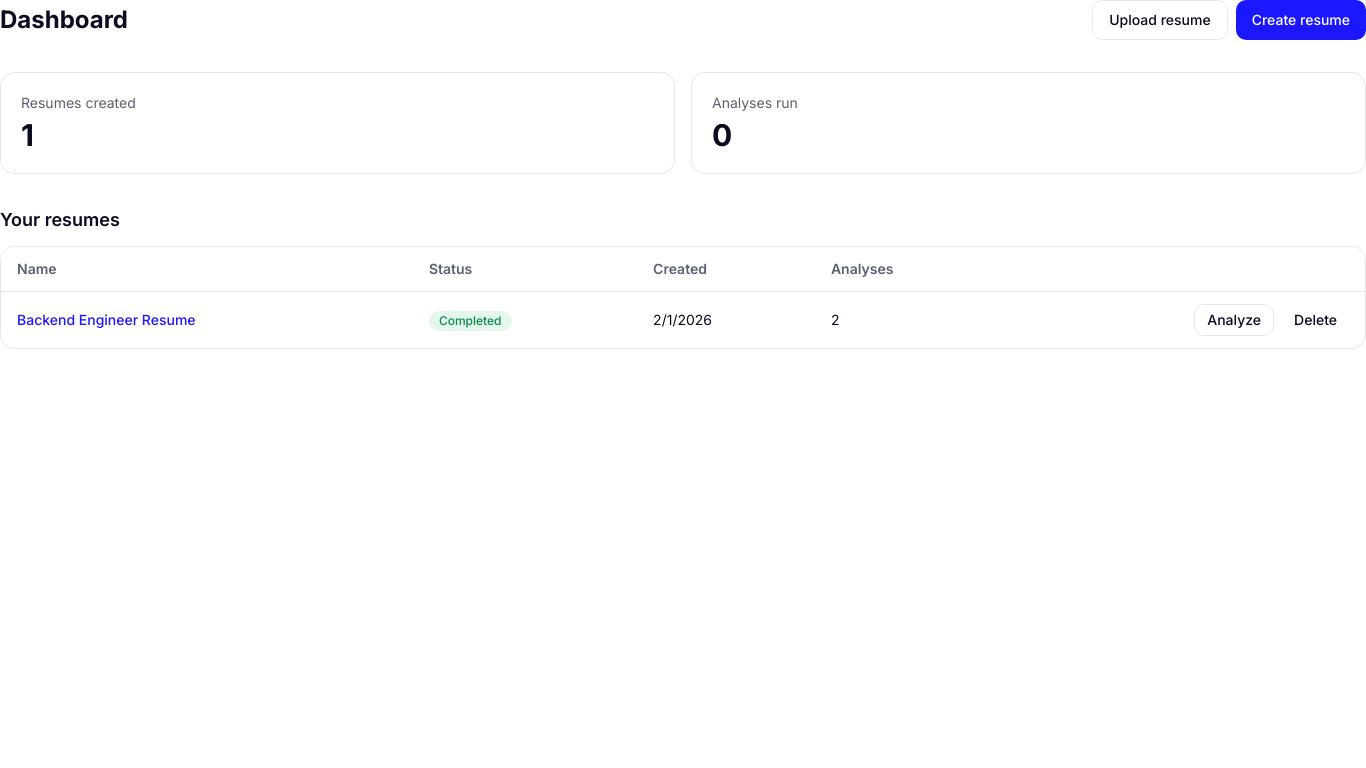
Scenario: DashboardPage › confirms then optimistically removes a deleted resume
expect the link "Backend Engineer Resume" is shown: met, box [17,311,196,328]
Click the button "Delete". click: (1316, 320)
box: [1282,304,1349,336]
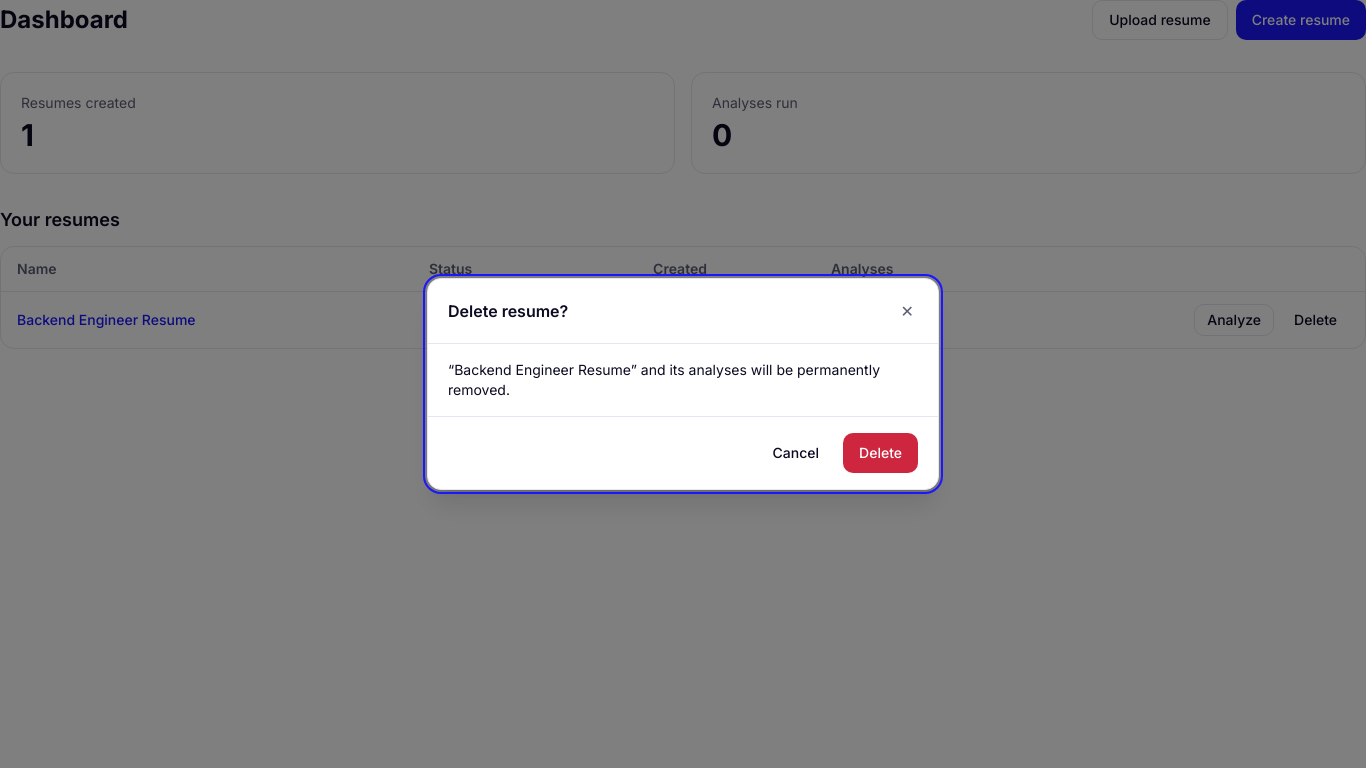
Click the button "Delete". click: (881, 453)
box: [843,433,918,473]
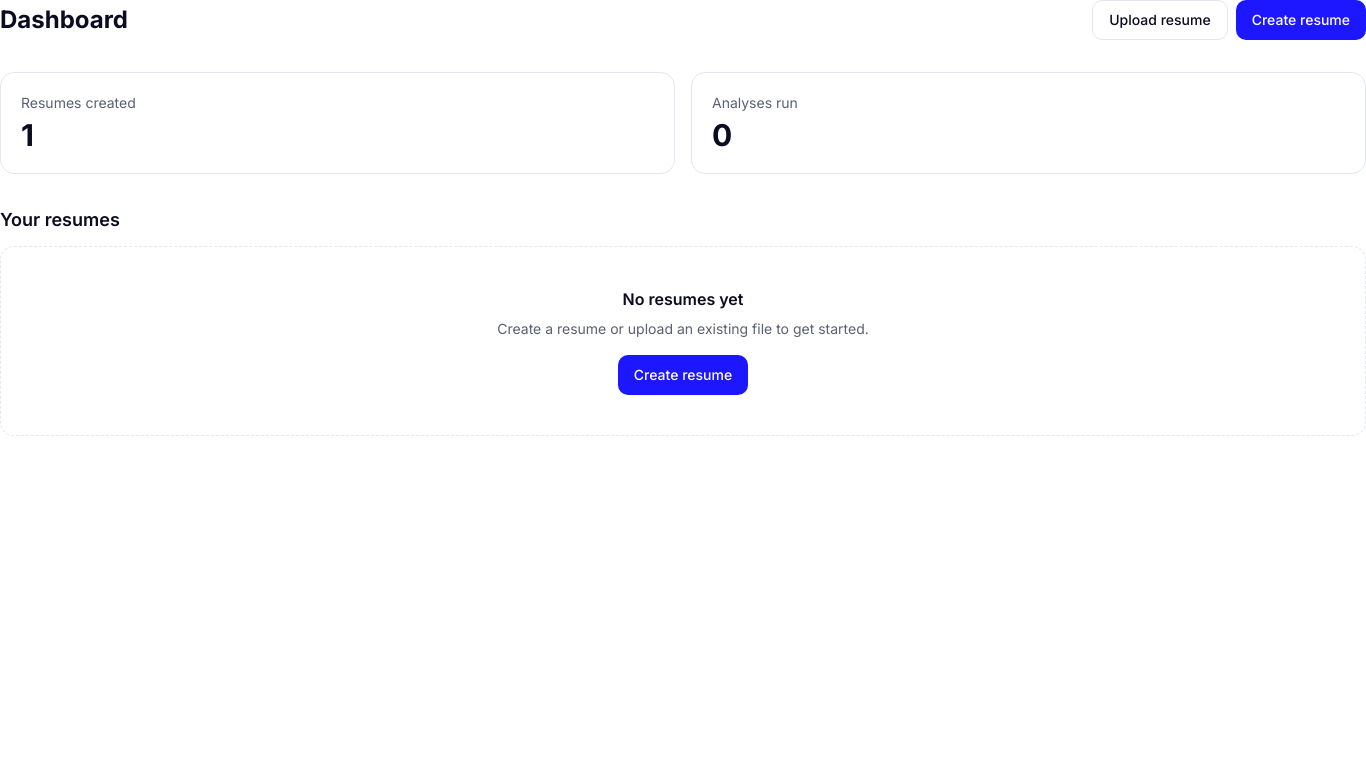
expect the link "Backend Engineer Resume" is gone: met
